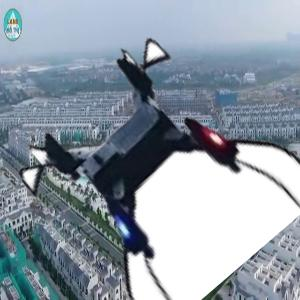drone: (34, 52, 282, 300)
